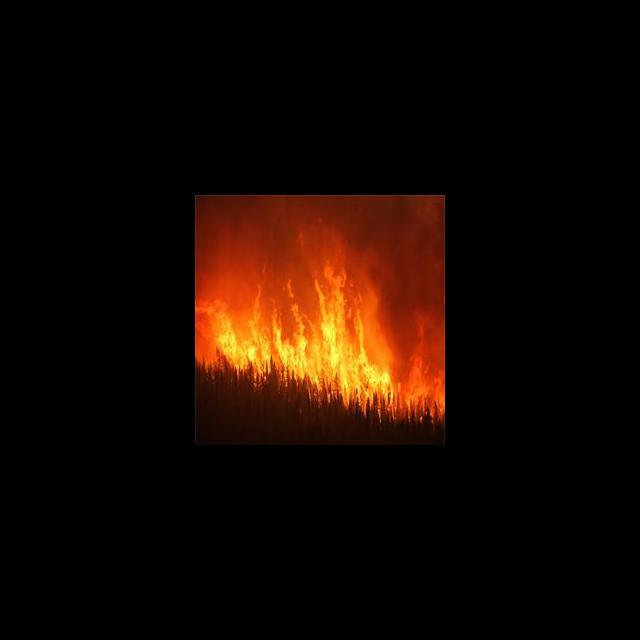Fire: (199, 253, 400, 410)
